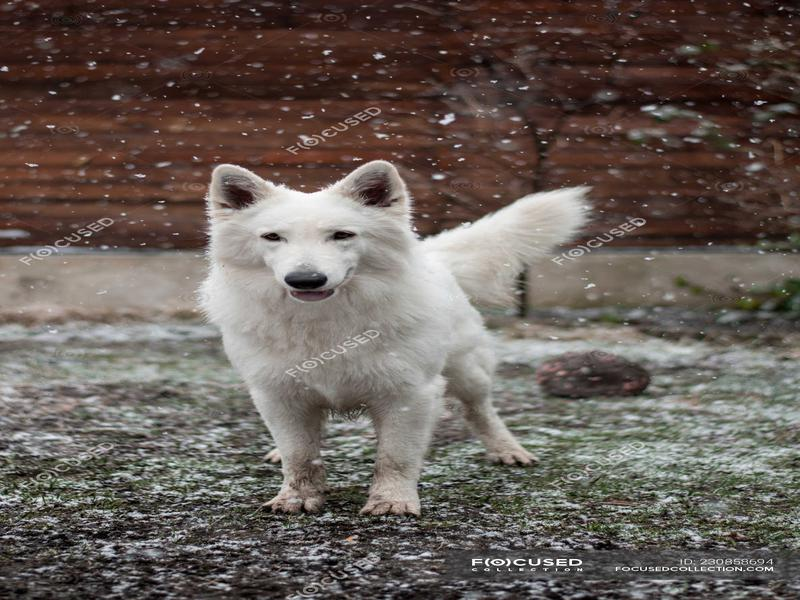dog_stand: (193, 162, 598, 522)
